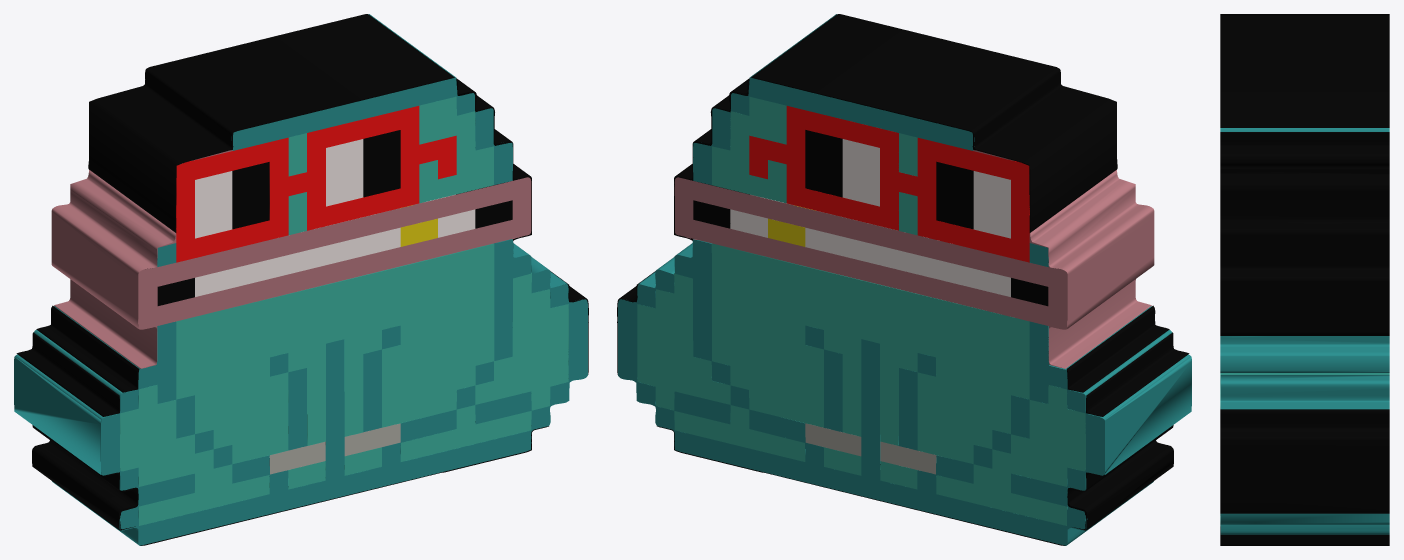
File: Toadz_797.glb
3 renders of one model, left to right at view 1: azimuth 30°, elevation 25°; view 2: azimuth 150°, elevation 25°; view 3: azimuth 270°, elevation 25°, orthographic. The views are drawn at different scales.
Visible parts, largest first — view 1: Curve; view 2: Curve; view 3: Curve.
Part boxes in pixels (box(x1,y1,x2,y2)): Curve: box(14, 14, 588, 545); Curve: box(617, 14, 1191, 545); Curve: box(1220, 14, 1389, 545).
Bounding box in the file's own units: 3.25 × 2.5 × 1.
